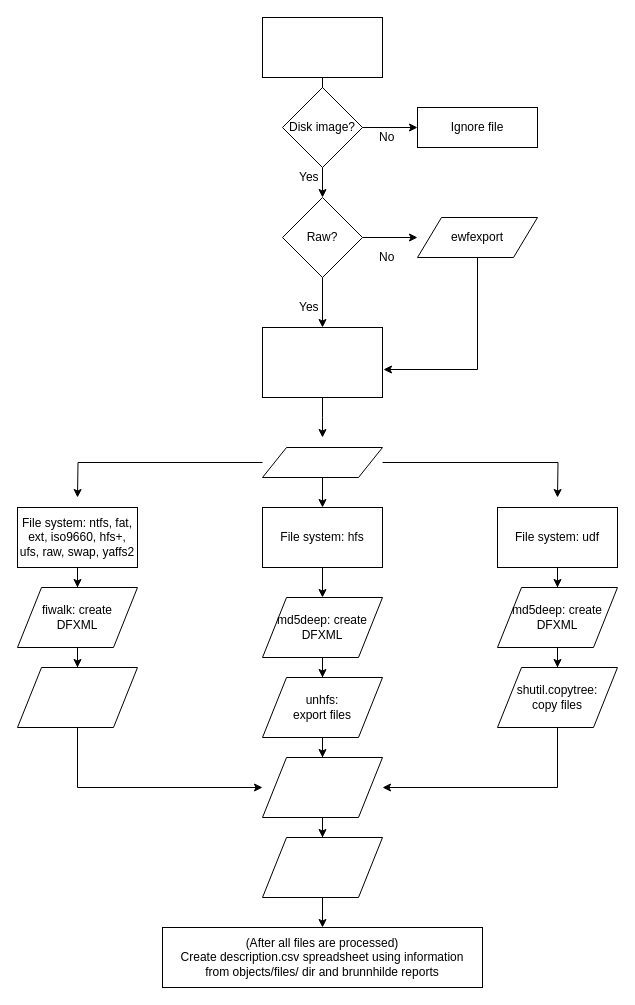
Image size: 635x1005. Some labels were removed from this diagram. The centre of each missing label's shape, as x and y in pixels:
"brunnhilde: characterize" goes at point 322,867.
"disktype" goes at point 322,462.
"For file in directory" goes at point 322,47.
"md5deep or bagit-python: checksums" goes at point 322,787.
"Move raw image and other files with same basename to /objects/diskimage/" goes at point 322,362.
"tsk_recover: export files" goes at point 77,697.
